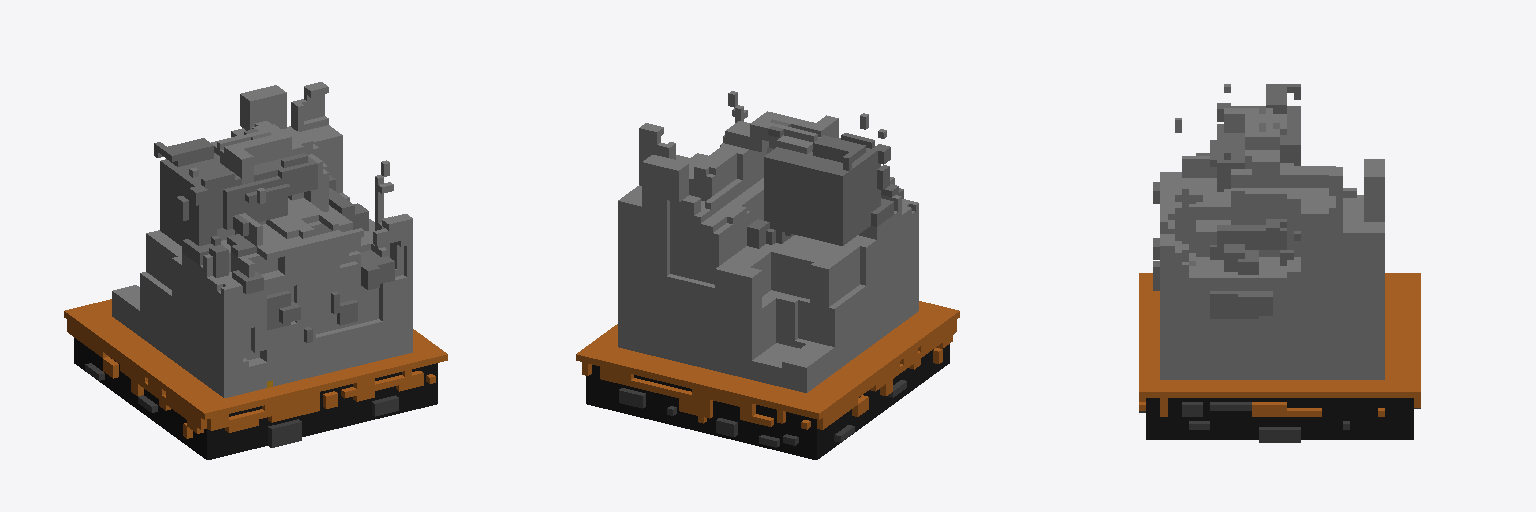
3 views of the same model, side by side, from view 1: azimuth 30°, elevation 25°; view 2: azimuth 150°, elevation 25°; view 3: azimuth 270°, elevation 25° (orthographic).
Visible parts, largest first — view 1: object 1; view 2: object 1; view 3: object 1.
Part boxes in pixels (x1,y1,x2,y2): object 1: (64, 82, 447, 459); object 1: (576, 91, 959, 459); object 1: (1139, 84, 1420, 442).
Size of the model in its own units: 4 by 4 by 4.
1 materials, 1 textured.